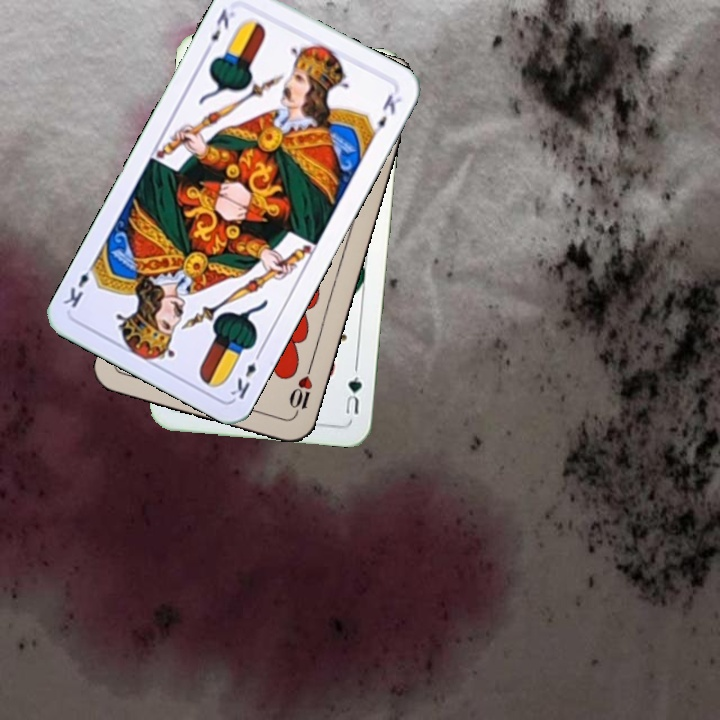EK: (226, 346, 265, 402), (201, 4, 238, 56)
GU: (341, 372, 365, 417)
H10: (285, 360, 316, 418)
